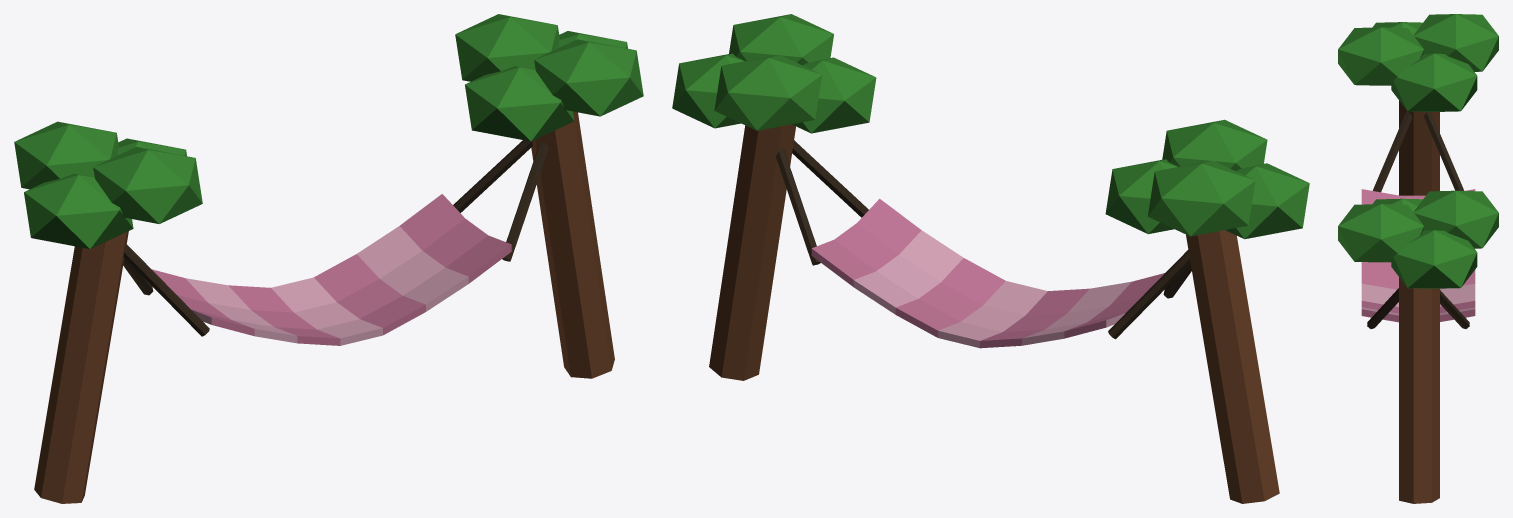
File: Garden_Hammock.glb
3 renders of one model, left to right at view 1: azimuth 30°, elevation 25°; view 2: azimuth 150°, elevation 25°; view 3: azimuth 270°, elevation 25°, orthographic. The views are drawn at different scales.
Visible parts, largest first — view 1: Hammock; view 2: Hammock; view 3: Hammock.
Boxes of the visible parts, <box> form: Hammock: <box>14,14,643,503</box>; Hammock: <box>672,14,1309,503</box>; Hammock: <box>1338,14,1498,503</box>.
Bounding box in the file's own units: 4.31 × 2.34 × 1.19.
